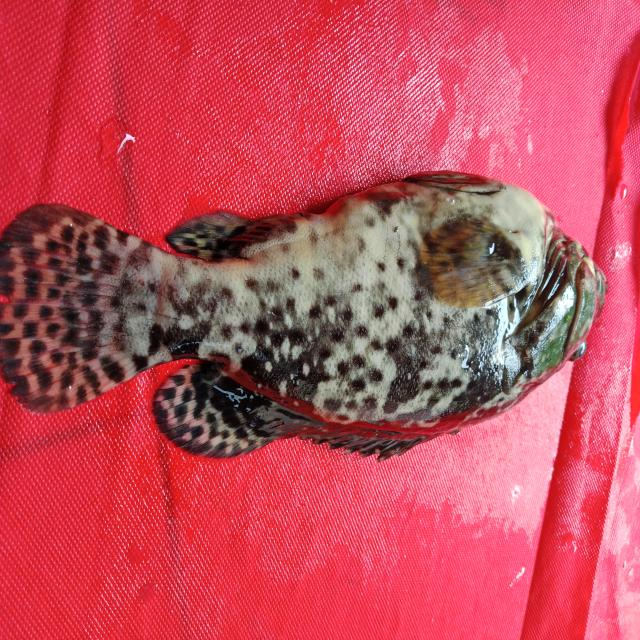ikan: (7, 146, 610, 476)
